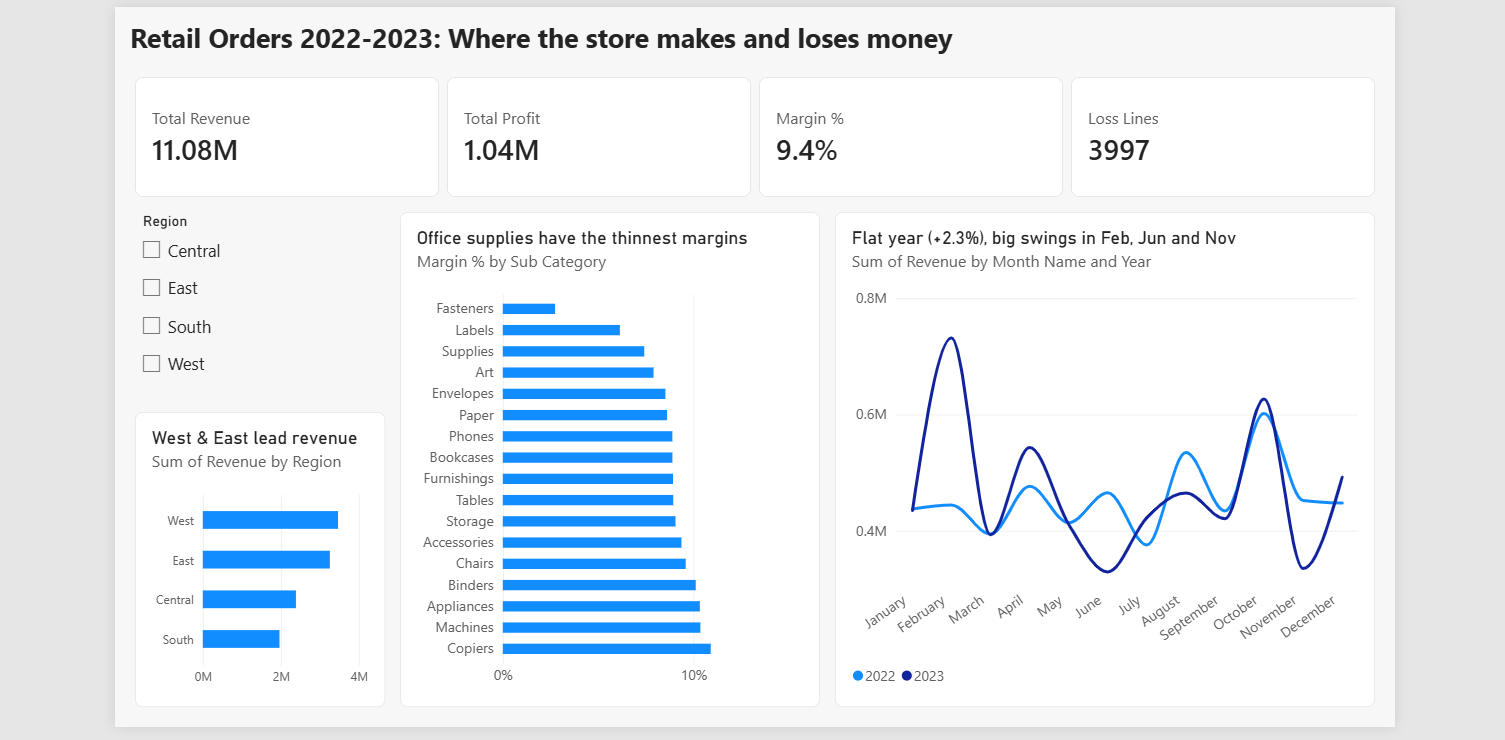

Layout of this report page (visuals, bound fields, positions):
{"tool":"powerbi","page":{"name":"Page 1","canvas":[1280,720],"ordinal":0},"visuals":[{"type":"barChart","title":"West & East lead revenue","fields":{"Category":["orders.Region"],"Y":["Sum(orders.Revenue)"]},"box":[20,405,250,295],"z":0},{"type":"lineChart","title":"Flat year (+2.3%), big swings in Feb, Jun and Nov","fields":{"Category":["orders.Month Name"],"Series":["orders.Year"],"Y":["Sum(orders.Revenue)"]},"box":[720,205,540,495],"z":1},{"type":"slicer","fields":{"Values":["orders.Region"]},"box":[20,205,250,185],"z":2},{"type":"cardVisual","fields":{"Data":["orders.Total Revenue","orders.Total Profit","orders.Margin %","orders.Loss Lines"]},"box":[20,70,1240,120],"z":3},{"type":"barChart","title":"Office supplies have the thinnest margins","fields":{"Category":["orders.Sub Category"],"Y":["orders.Margin %"]},"box":[285,205,420,495],"z":4},{"type":"textbox","box":[15,12,1000,50],"z":5}]}

Visuals, with their boxes on the page's 1280x720 design canvas (x1, y1, x2, y2). These are canvas units, not pixel positions in the 1505x740 screenshot, which may show the page scaled, cropped or inside an application window:
"West & East lead revenue" barChart: rect(20, 405, 270, 700)
"Flat year (+2.3%), big swings in Feb, Jun and Nov" lineChart: rect(720, 205, 1260, 700)
slicer - orders.Region: rect(20, 205, 270, 390)
cardVisual - orders.Total Revenue x orders.Total Profit: rect(20, 70, 1260, 190)
"Office supplies have the thinnest margins" barChart: rect(285, 205, 705, 700)
textbox: rect(15, 12, 1015, 62)
